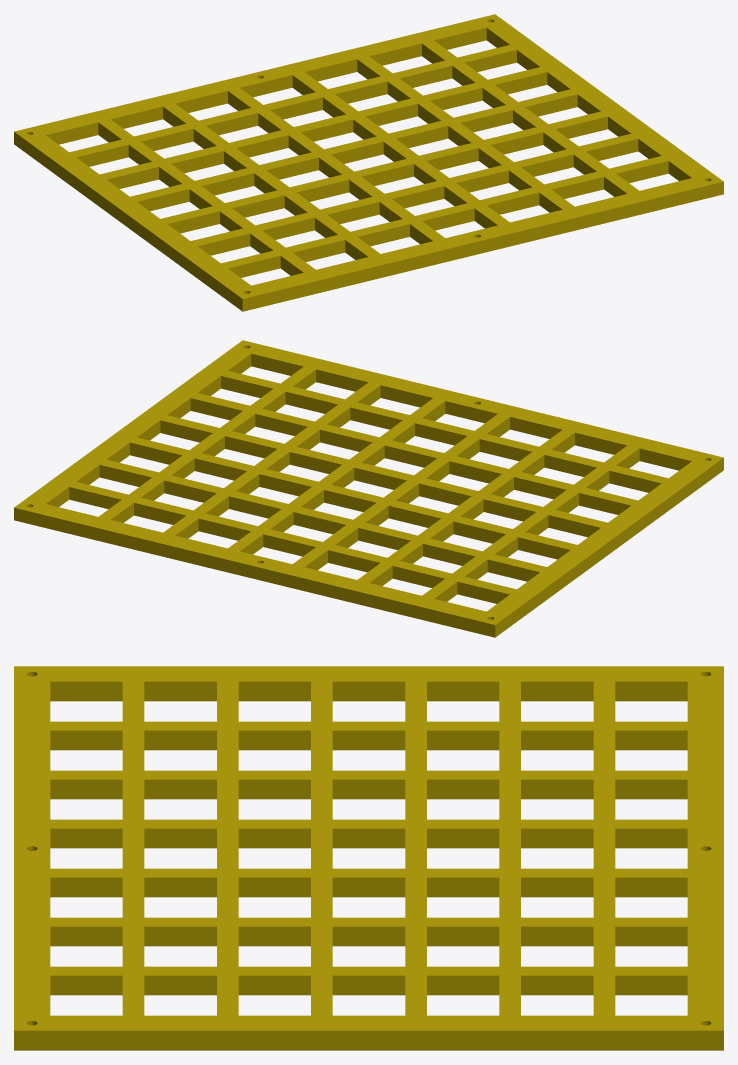
The model's file is Part_Studio_matrice.gltf.
3 renders of one model, top to bottom at view 1: azimuth 30°, elevation 25°; view 2: azimuth 150°, elevation 25°; view 3: azimuth 270°, elevation 25°, orthographic. The views are drawn at different scales.
Parts seen in each view (by area): view 1: mesh0_mesh_3, mesh0_mesh_82, mesh0_mesh_81, mesh0_mesh_11, mesh0_mesh_64, mesh0_mesh_72, mesh0_mesh_146, mesh0_mesh_26, mesh0_mesh_87, mesh0_mesh_111, mesh0_mesh_36, mesh0_mesh_54 (+40 smaller); view 2: mesh0_mesh_3, mesh0_mesh_80, mesh0_mesh_81, mesh0_mesh_171, mesh0_mesh_7, mesh0_mesh_142, mesh0_mesh_176, mesh0_mesh_125, mesh0_mesh_163, mesh0_mesh_185, mesh0_mesh_16, mesh0_mesh_164 (+40 smaller); view 3: mesh0_mesh_3, mesh0_mesh_179, mesh0_mesh_35, mesh0_mesh_38, mesh0_mesh_41, mesh0_mesh_71, mesh0_mesh_104, mesh0_mesh_162, mesh0_mesh_200, mesh0_mesh_22, mesh0_mesh_50, mesh0_mesh_56 (+39 smaller).
Boxes of the visible parts, x1,y1,x2,y2 form: mesh0_mesh_3: [14, 14, 723, 298]; mesh0_mesh_82: [242, 181, 723, 311]; mesh0_mesh_81: [14, 132, 242, 311]; mesh0_mesh_11: [392, 186, 444, 208]; mesh0_mesh_64: [206, 113, 258, 135]; mesh0_mesh_72: [202, 173, 254, 195]; mesh0_mesh_146: [495, 72, 547, 94]; mesh0_mesh_26: [491, 132, 543, 154]; mesh0_mesh_87: [305, 59, 357, 81]; mesh0_mesh_111: [198, 233, 250, 255]; mesh0_mesh_36: [396, 126, 448, 147]; mesh0_mesh_54: [301, 119, 353, 141]; mesh0_mesh_3: [14, 340, 723, 624]; mesh0_mesh_80: [14, 507, 495, 637]; mesh0_mesh_81: [495, 458, 723, 637]; mesh0_mesh_171: [293, 512, 345, 534]; mesh0_mesh_7: [479, 439, 531, 461]; mesh0_mesh_142: [190, 398, 242, 420]; mesh0_mesh_176: [483, 499, 535, 521]; mesh0_mesh_125: [380, 385, 432, 407]; mesh0_mesh_163: [194, 458, 246, 480]; mesh0_mesh_185: [487, 559, 539, 581]; mesh0_mesh_16: [384, 445, 436, 467]; mesh0_mesh_164: [289, 452, 341, 473]; mesh0_mesh_3: [14, 666, 723, 1030]; mesh0_mesh_179: [14, 1030, 723, 1050]; mesh0_mesh_35: [332, 877, 405, 897]; mesh0_mesh_38: [332, 828, 405, 848]; mesh0_mesh_41: [332, 779, 405, 799]; mesh0_mesh_71: [332, 730, 405, 750]; mesh0_mesh_104: [332, 681, 405, 701]; mesh0_mesh_162: [332, 926, 405, 946]; mesh0_mesh_200: [332, 975, 405, 995]; mesh0_mesh_22: [144, 877, 216, 897]; mesh0_mesh_50: [521, 877, 593, 897]; mesh0_mesh_56: [521, 828, 593, 848].
Size of the model in its own units: 0.119 by 0.003 by 0.098.
